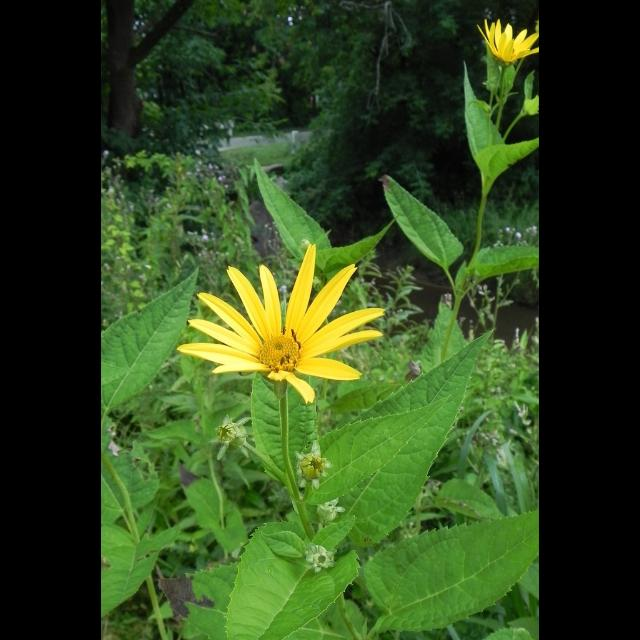Flower: (183, 254, 391, 400), (476, 19, 538, 61)
